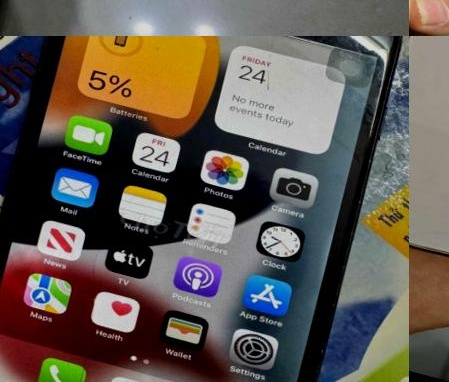physical_damage: (13, 203, 181, 382), (194, 36, 324, 107), (409, 159, 449, 338)
scratch: (304, 36, 403, 88)
